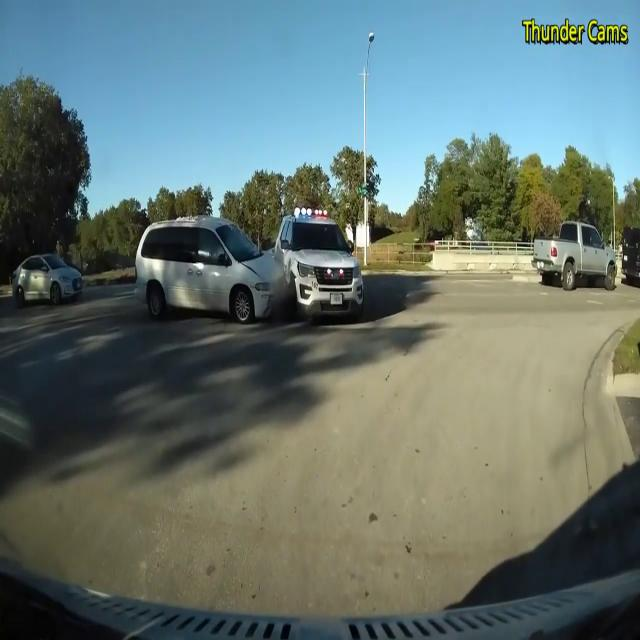accident: (157, 202, 397, 348)
